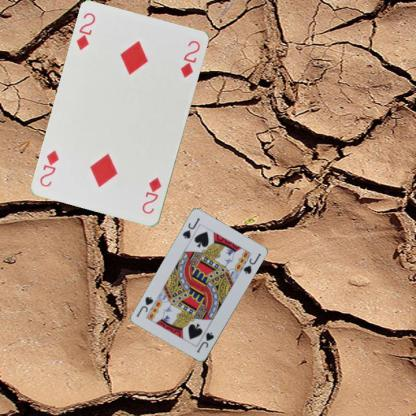2d: (73, 10, 97, 52), (139, 175, 163, 216)
Js: (193, 330, 216, 354), (180, 216, 201, 240)
